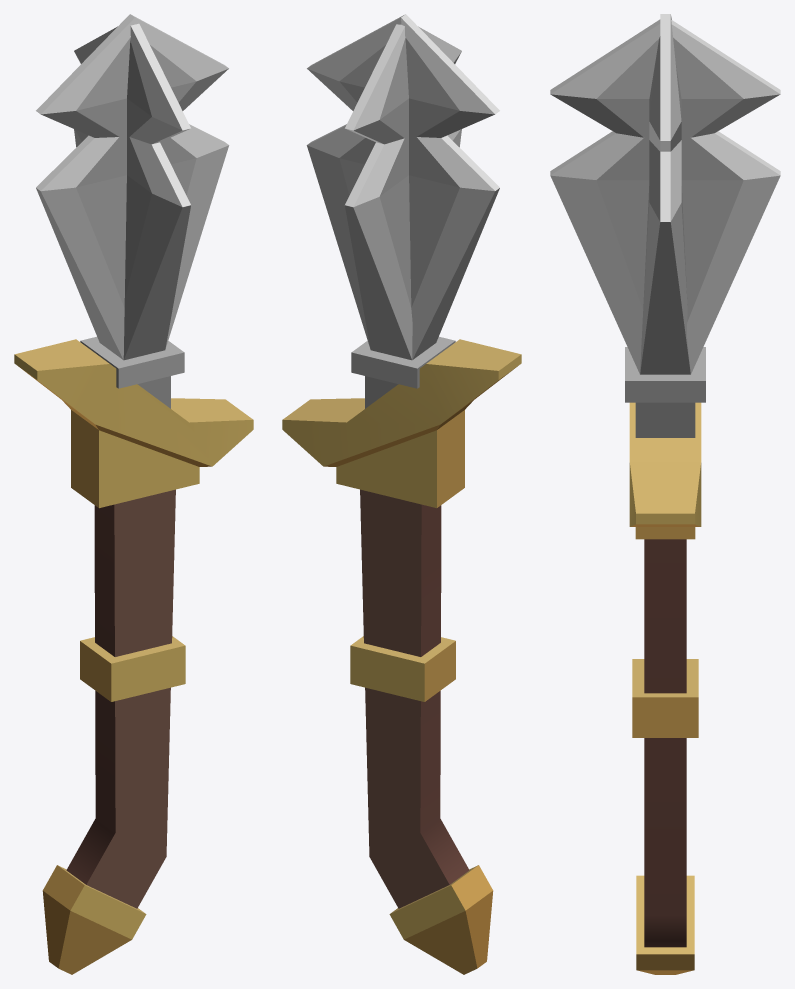
Rendered from SF_Wep_Elven_Mace_01.fbx.
3 views of the same model, side by side, from view 1: azimuth 30°, elevation 25°; view 2: azimuth 150°, elevation 25°; view 3: azimuth 270°, elevation 25° (orthographic). The views are drawn at different scales.
Parts seen in each view (by area): view 1: SF_Wep_Elven_Mace_01; view 2: SF_Wep_Elven_Mace_01; view 3: SF_Wep_Elven_Mace_01.
Boxes of the visible parts, left/top/right/bottom form: SF_Wep_Elven_Mace_01: left=14, top=14, right=253, bottom=974; SF_Wep_Elven_Mace_01: left=282, top=14, right=521, bottom=974; SF_Wep_Elven_Mace_01: left=550, top=14, right=780, bottom=974.
Bounding box in the file's own units: 0.431 × 1.81 × 0.3802.
